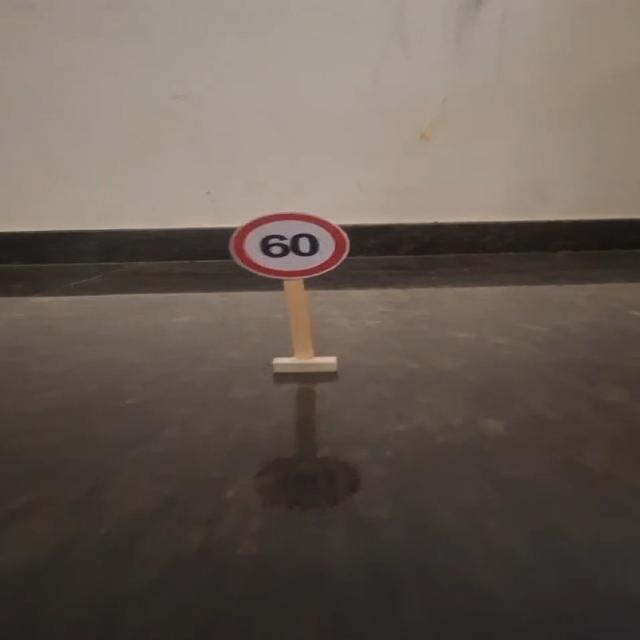Speed60: (225, 210, 352, 281)
